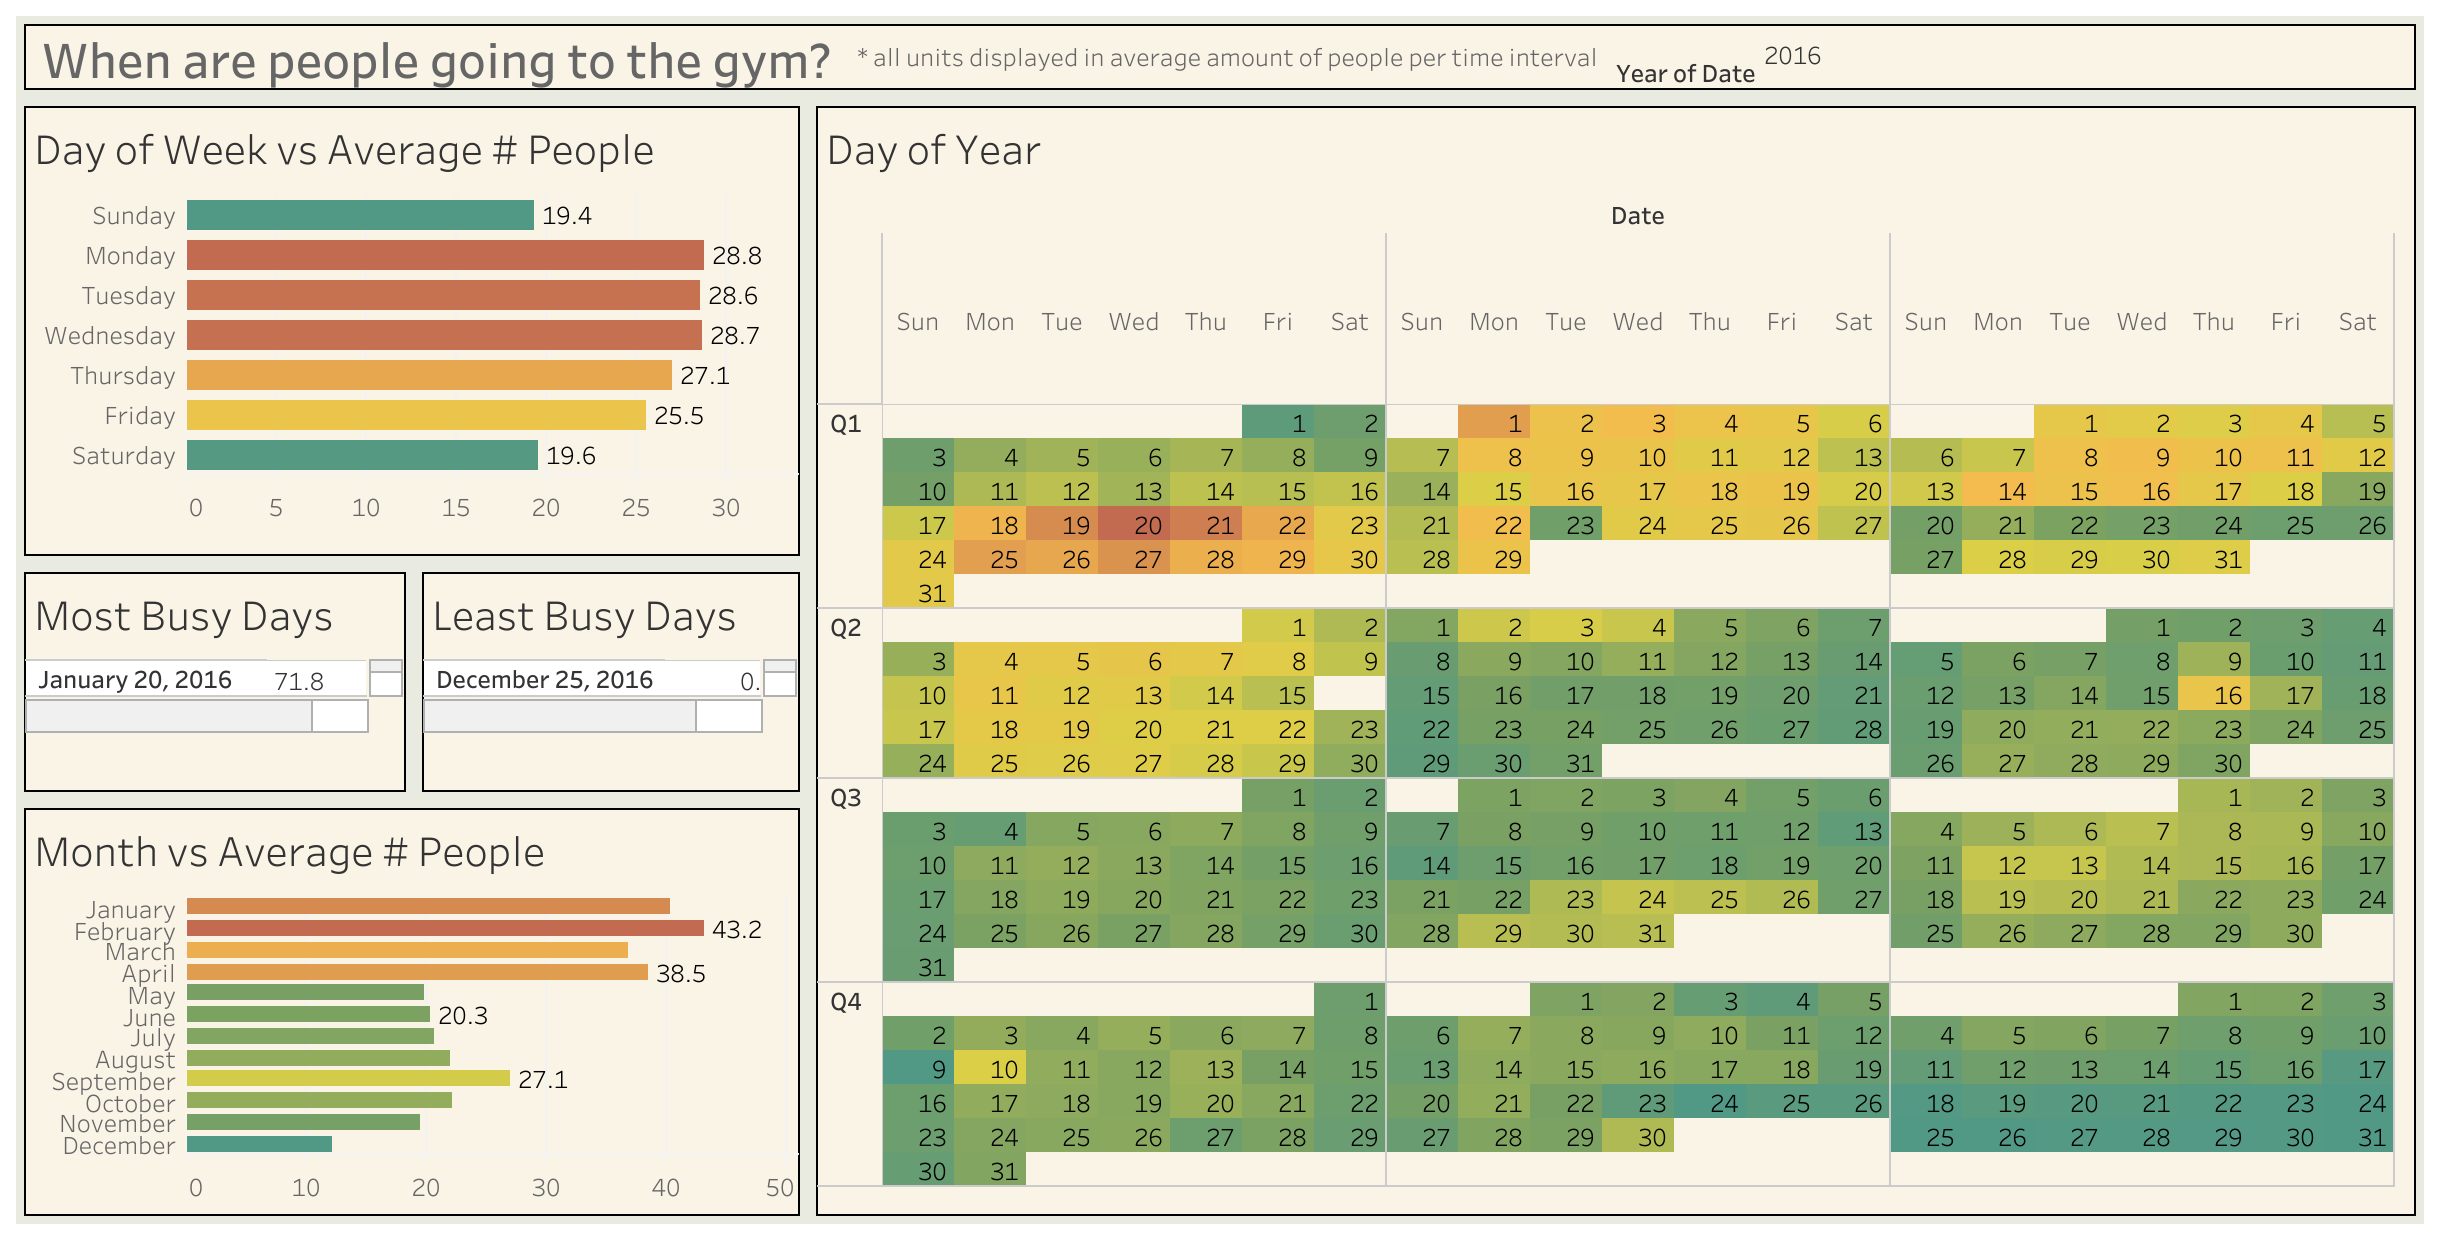

The dashboard page shown, as its layout file describes it:
{"tool":"tableau","page":{"name":"Dashboard 1","canvas":[1220,620],"ordinal":0},"visuals":[{"type":"text","box":[426,7,397.5,42]},{"type":"text","box":[8,8,1204,41]},{"type":"filter","title":"Month of Year","param":"[federated.1xfkjf31qmj9fi193llo204kc89g].[yr:date:ok]","box":[808.2,18,398.5,36]},{"type":"worksheet","title":"Day of Week","mark":"Bar","rows":["date"],"cols":["number_people"],"box":[8,49,395.5,233]},{"type":"worksheet","title":"calendar view","mark":"Square","rows":["date","Calculation_6793961544317976621"],"cols":["Calculation_6793961544315949099","date"],"box":[403.5,49,808.5,563]},{"type":"worksheet","title":"top days","mark":"Automatic","rows":["date"],"box":[8,282,198.8,118]},{"type":"worksheet","title":"bottom days (2)","mark":"Automatic","rows":["date"],"box":[206.8,282,196.8,118]},{"type":"worksheet","title":"Month of Year","mark":"Bar","rows":["date"],"cols":["number_people"],"box":[8,400,395.5,212]}]}

Visuals, with their boxes in screenshot pixels (x1, y1, x2, y2), scaled from the page's 1220x620 canvas onto the 2438x1238 screenshot:
text: 851 14 1646 98
text: 16 16 2422 98
"Month of Year" filter: 1615 36 2411 108
"Day of Week" worksheet (Bar marks): 16 98 806 563
"calendar view" worksheet (Square marks): 806 98 2422 1222
"top days" worksheet: 16 563 413 799
"bottom days (2)" worksheet: 413 563 807 799
"Month of Year" worksheet (Bar marks): 16 799 806 1222
